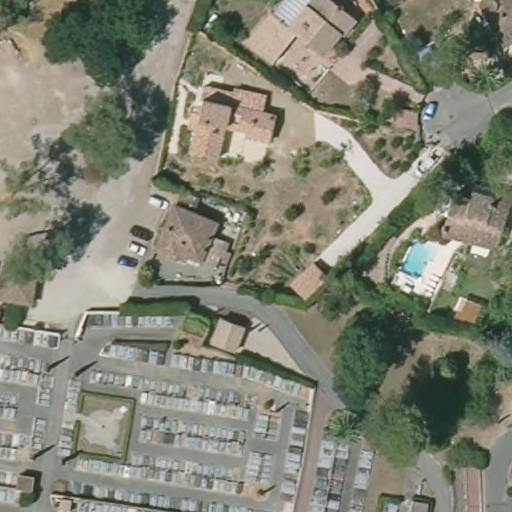pool: (399, 239, 434, 276)
